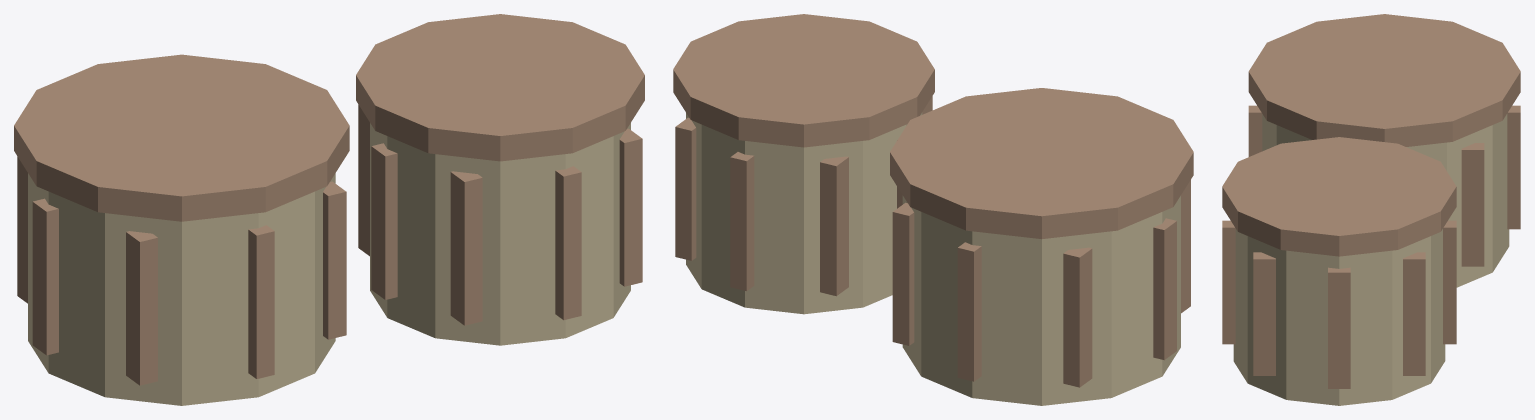
Rendered from woven_market_baskets.glb.
The picture shows the model from 3 angles, left to right: view 1: azimuth 30°, elevation 25°; view 2: azimuth 150°, elevation 25°; view 3: azimuth 270°, elevation 25°; orthographic projection. The views are drawn at different scales.
Parts seen in each view (by area): view 1: cylinder_1, cylinder_0, cylinder_11, cylinder_10, box_15, box_5, box_16, box_6, box_14, box_4, box_3, box_13 (+2 smaller); view 2: cylinder_1, cylinder_0, cylinder_11, cylinder_10, box_7, box_17, box_8, box_18, box_6, box_9, box_19, box_5; view 3: cylinder_1, cylinder_10, cylinder_11, cylinder_0, box_9, box_19, box_13, box_12, box_18, box_8, box_14, box_4.
Boxes of the visible parts, box(x1,y1,x2,y2) form: cylinder_1: box(14, 54, 349, 221); cylinder_0: box(28, 173, 335, 405); cylinder_11: box(356, 14, 644, 161); cylinder_10: box(370, 123, 630, 345); box_15: box(450, 171, 482, 325); box_5: box(126, 231, 157, 385); box_16: box(371, 143, 397, 299); box_6: box(32, 198, 58, 355); box_14: box(555, 166, 581, 320); box_4: box(248, 225, 274, 378); box_3: box(323, 181, 346, 339); box_13: box(619, 128, 642, 286); cylinder_1: box(890, 88, 1193, 239); cylinder_0: box(902, 195, 1180, 405); cylinder_11: box(673, 14, 934, 147); cylinder_10: box(686, 112, 922, 314); box_7: box(1063, 247, 1092, 387); box_17: box(820, 156, 848, 296); box_8: box(957, 242, 981, 381); box_18: box(730, 152, 754, 291); box_6: box(1153, 218, 1176, 360); box_9: box(892, 202, 914, 345); box_19: box(675, 117, 696, 260); box_5: box(1181, 180, 1190, 313); cylinder_1: box(1248, 14, 1520, 146); cylinder_10: box(1233, 229, 1445, 405); cylinder_11: box(1222, 137, 1456, 256); cylinder_0: box(1262, 114, 1509, 287); box_9: box(1461, 143, 1484, 266); box_19: box(1403, 252, 1425, 375); box_13: box(1253, 252, 1275, 375); box_12: box(1328, 267, 1350, 388); box_18: box(1443, 220, 1456, 344); box_8: box(1507, 105, 1520, 229); box_14: box(1222, 220, 1235, 344); box_4: box(1248, 105, 1262, 156).
Size of the model in its own units: 1.39 by 0.51 by 0.79.
